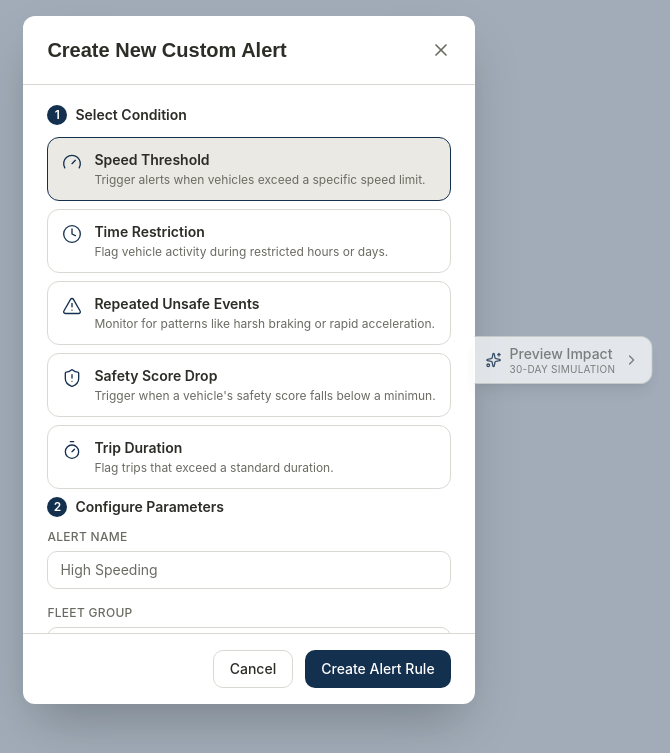
Scenario: CreateAlertRuleModal › shows validation errors
Click the button "Create Alert Rule" at coordinates (378, 669), box [305, 650, 451, 688]
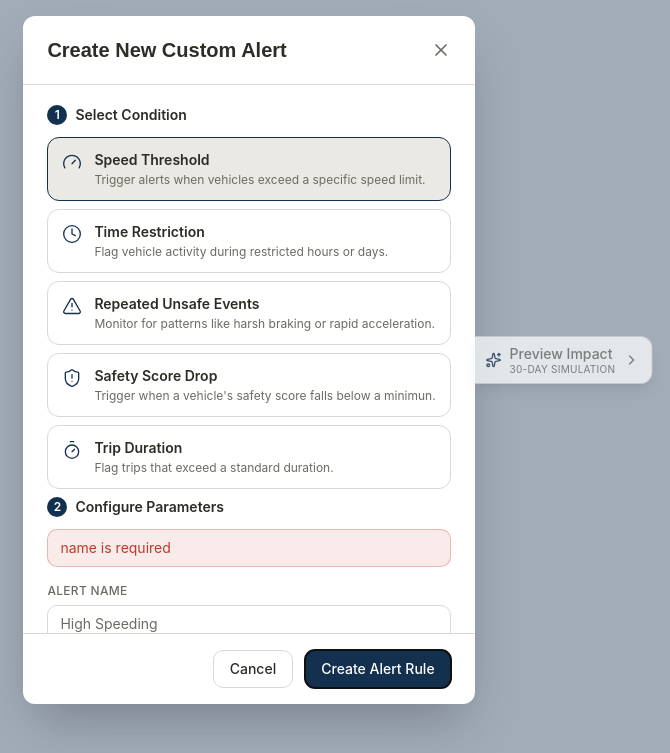
Expected: the text "name is required" is shown, [47, 529, 451, 567]
